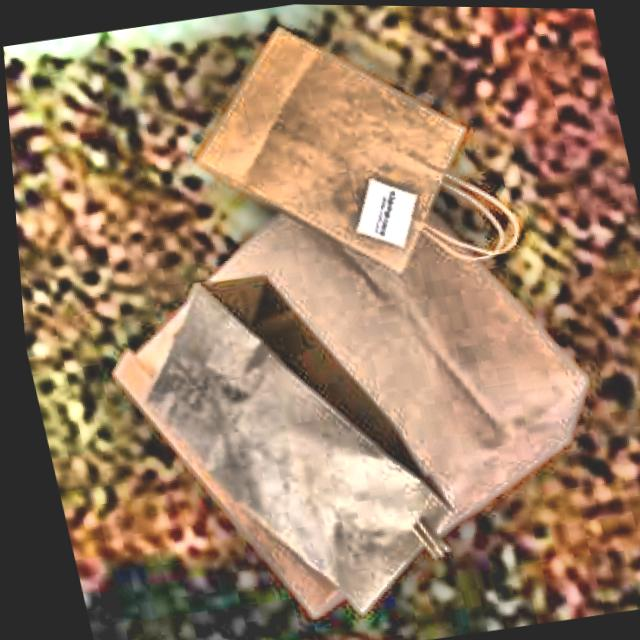Paper-bag: (61, 122, 635, 639), (97, 255, 462, 635), (163, 2, 531, 305)
